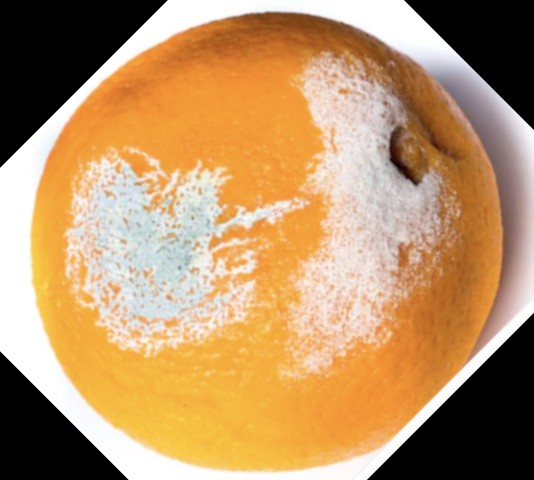rotten_orange: (31, 12, 503, 473)
